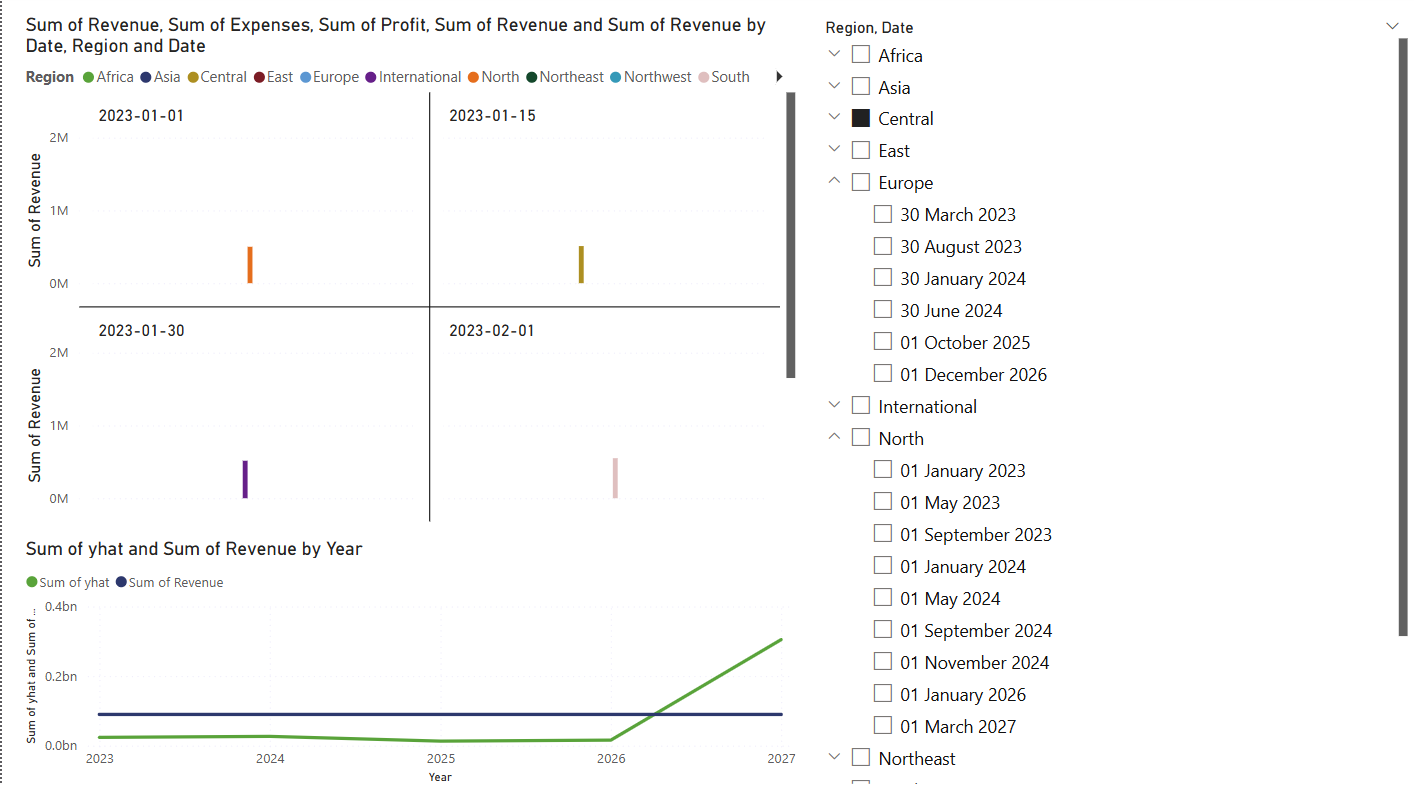

What the dashboard file says about the page in this screenshot:
{"tool":"powerbi","page":{"name":"Page 1","canvas":[1280,720],"ordinal":0},"visuals":[{"type":"clusteredColumnChart","fields":{"Category":["public financial_reports.Date"],"Series":["public financial_reports.Region"],"Y":["Sum(public financial_reports.Revenue)"],"Rows":["public financial_reports.Date"]},"box":[16.4,16.4,708.2,466.4],"z":0},{"type":"lineChart","fields":{"Category":["forecast.ds.Variation.Date Hierarchy.Year","forecast.ds.Variation.Date Hierarchy.Quarter","forecast.ds.Variation.Date Hierarchy.Month","forecast.ds.Variation.Date Hierarchy.Day"],"Y":["Sum(forecast.yhat)","Sum(public financial_reports.Revenue)"]},"box":[16.4,491.8,708.2,228.2],"z":1},{"type":"slicer","fields":{"Values":["mock_sales_data.Region","mock_sales_data.Date"]},"box":[733.6,16.4,546.4,703.6],"z":2}]}

Visuals, with their boxes in screenshot pixels (x1, y1, x2, y2), scaled from the page's 1280x720 canvas onto the 1414x785 screenshot:
clusteredColumnChart - public financial_reports.Date x public financial_reports.Region: [left=18, top=18, right=800, bottom=526]
lineChart - forecast.ds.Variation.Date Hierarchy.Year x forecast.ds.Variation.Date Hierarchy.Quarter: [left=18, top=536, right=800, bottom=784]
slicer - mock_sales_data.Region x mock_sales_data.Date: [left=810, top=18, right=1413, bottom=784]
